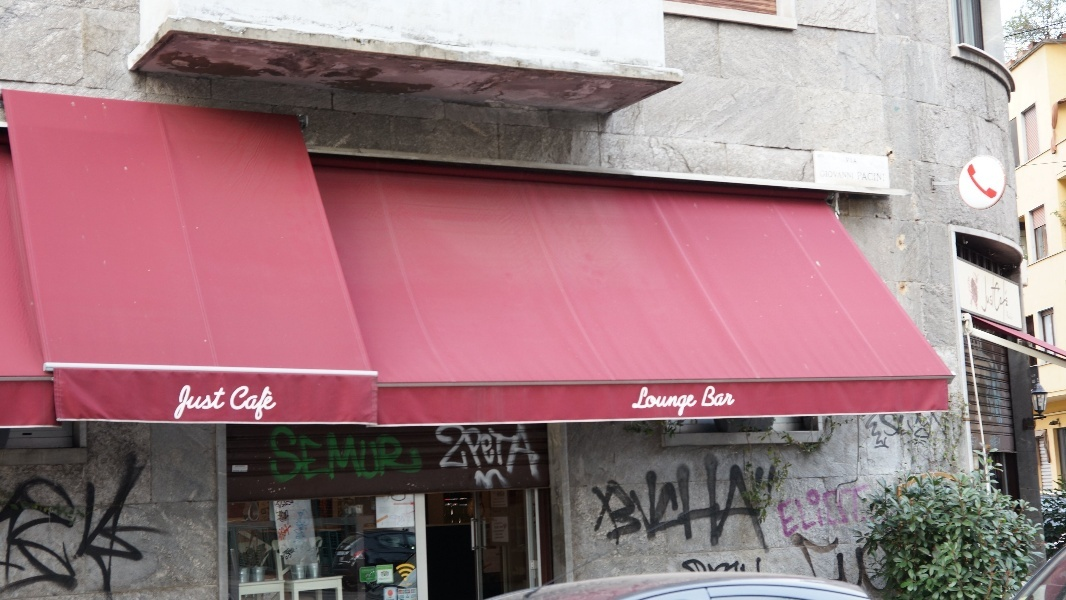text: (593, 451, 608, 555), (609, 451, 624, 555), (625, 451, 640, 555), (641, 451, 656, 555), (657, 451, 672, 555), (673, 451, 688, 555), (689, 451, 704, 555), (705, 451, 720, 555), (721, 451, 736, 555), (737, 451, 752, 555), (753, 451, 768, 555), (273, 426, 288, 490), (289, 426, 304, 490), (305, 426, 320, 490), (321, 426, 336, 490), (337, 426, 352, 490), (353, 426, 368, 490), (369, 426, 384, 490), (385, 426, 400, 490), (401, 426, 416, 490), (785, 478, 800, 538), (801, 478, 816, 538), (817, 478, 832, 538), (833, 478, 848, 538), (849, 478, 864, 538), (769, 451, 777, 555), (449, 423, 464, 478), (465, 423, 480, 478), (481, 423, 496, 478), (497, 423, 512, 478), (513, 423, 528, 478), (529, 423, 543, 478), (435, 423, 448, 478), (993, 276, 1008, 323), (774, 478, 784, 538), (417, 426, 426, 490), (980, 276, 992, 323), (241, 385, 256, 422), (257, 385, 272, 422), (193, 386, 208, 420), (209, 386, 224, 420), (641, 387, 656, 417), (657, 387, 672, 417), (673, 387, 688, 417), (865, 478, 871, 538), (721, 385, 737, 407), (182, 386, 192, 420), (689, 387, 700, 417), (385, 505, 400, 526), (589, 451, 592, 555), (707, 385, 720, 407), (275, 521, 288, 543), (233, 385, 240, 422), (401, 505, 411, 526), (276, 510, 288, 525), (497, 521, 506, 540), (273, 385, 277, 422), (379, 505, 384, 526), (289, 521, 292, 543), (493, 521, 496, 540), (1009, 276, 1010, 323), (406, 595, 416, 599), (225, 386, 226, 420), (639, 387, 640, 417), (362, 569, 368, 573), (369, 569, 375, 573), (385, 578, 392, 581), (377, 566, 384, 569), (385, 566, 392, 569), (285, 554, 288, 560), (289, 554, 292, 560), (378, 578, 384, 581), (401, 596, 405, 600), (289, 510, 290, 525), (411, 595, 416, 598), (389, 597, 400, 598), (399, 596, 400, 600)
